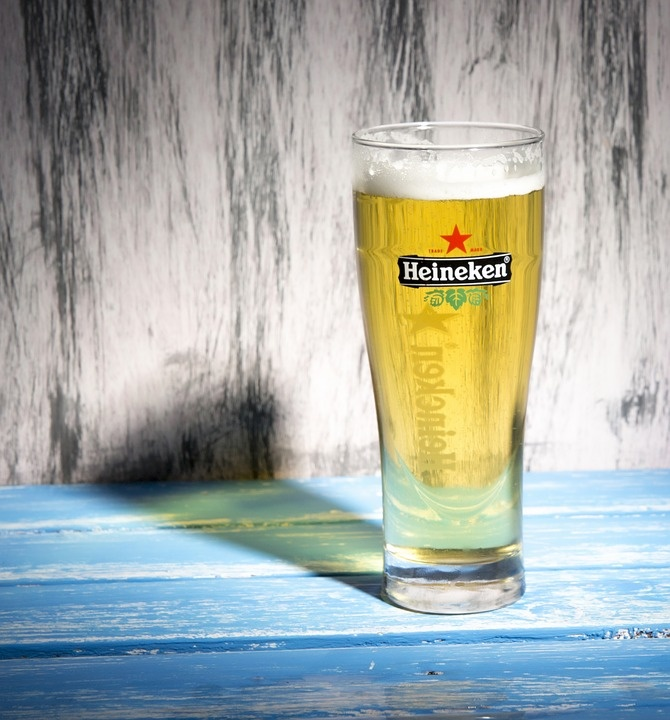glassBeer: (352, 121, 538, 605)
